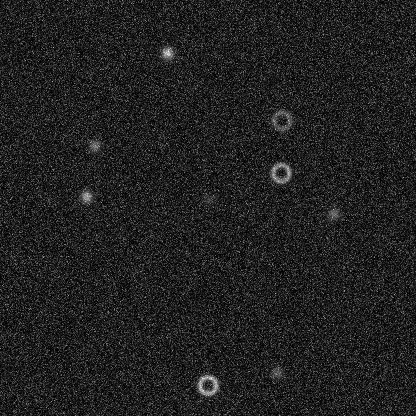Ring: (268, 160, 292, 184), (195, 373, 219, 397), (269, 108, 293, 132)
Spot: (86, 137, 102, 153), (325, 205, 341, 221), (159, 44, 175, 60), (78, 188, 94, 204), (200, 191, 216, 207), (268, 364, 284, 380)
